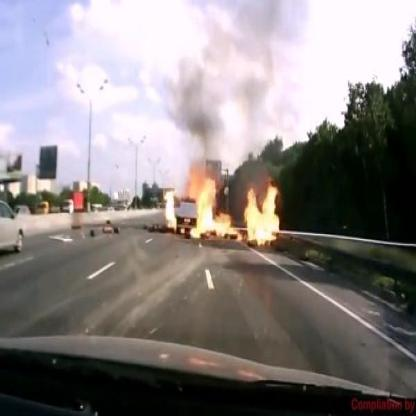fire: (191, 161, 283, 254), (162, 184, 178, 230)
